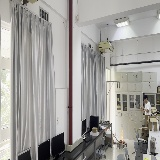fire: (119, 125, 124, 143)
